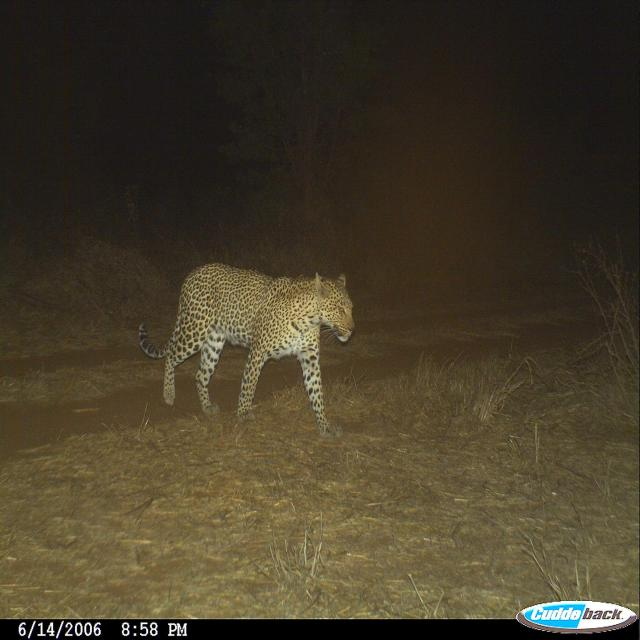Leopard: (135, 261, 346, 426)
